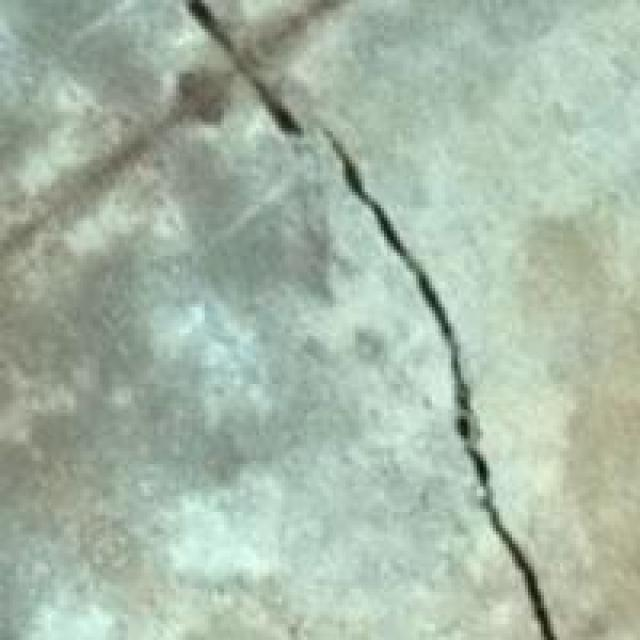crack: (160, 0, 605, 637)
